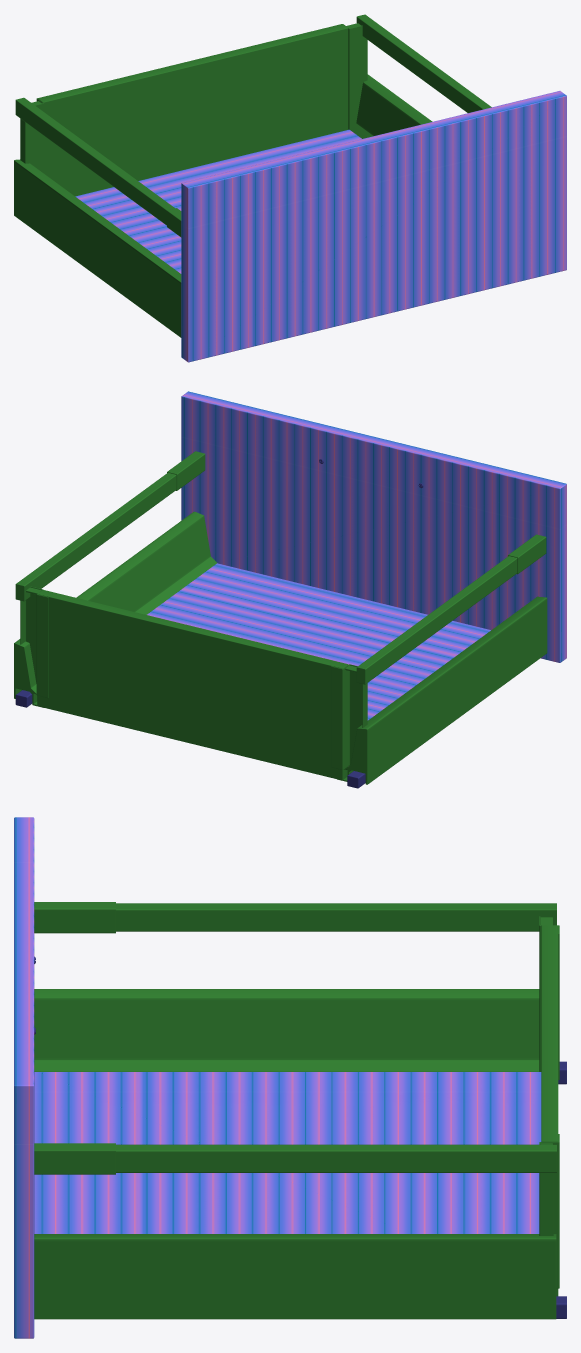
Rendered from SM_Kitchen_09_Drawer_02.fbx.
3 renders of one model, top to bottom at view 1: azimuth 30°, elevation 25°; view 2: azimuth 150°, elevation 25°; view 3: azimuth 270°, elevation 25°, orthographic. The views are drawn at different scales.
Visible parts, largest first — view 1: SM_Kitchen_09_Drawer_02; view 2: SM_Kitchen_09_Drawer_02; view 3: SM_Kitchen_09_Drawer_02.
Boxes of the visible parts, bbox=[...] form: SM_Kitchen_09_Drawer_02: bbox=[14, 14, 566, 362]; SM_Kitchen_09_Drawer_02: bbox=[14, 391, 566, 788]; SM_Kitchen_09_Drawer_02: bbox=[14, 817, 566, 1338].
Bounding box in the file's own units: 59.69 × 26.3 × 51.99.
Materials: 4 (2 with a texture image).
